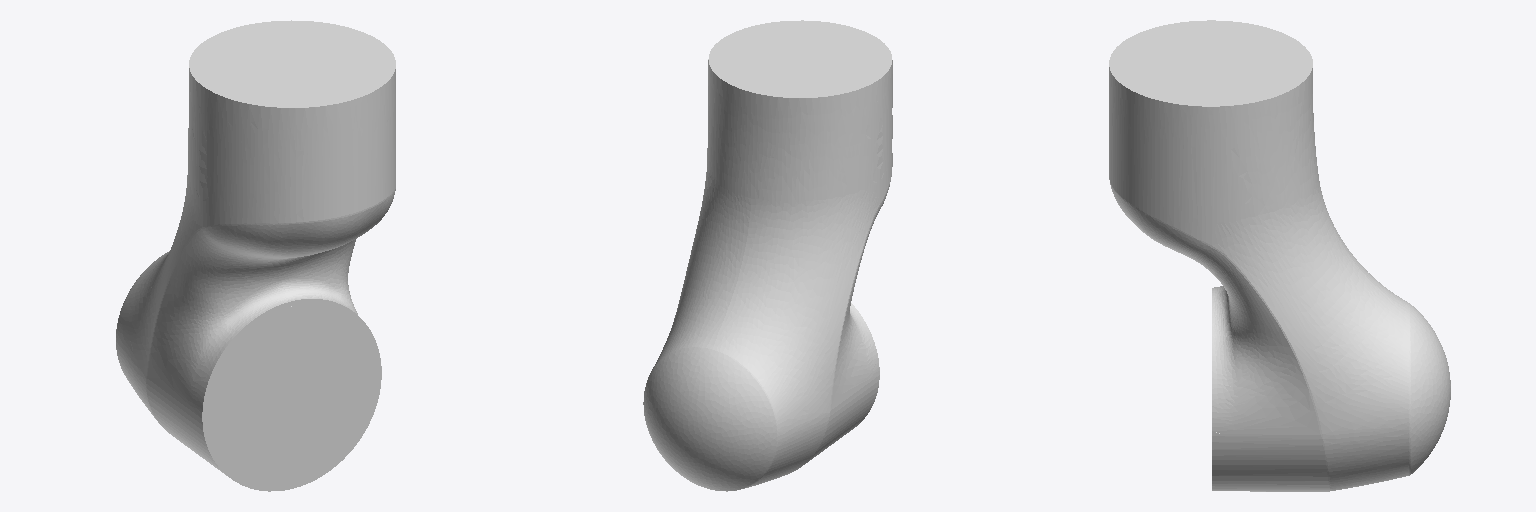
The robot description file, URDF, robot "panda":
<?xml version="1.0" ?>
<!-- =================================================================================== -->
<!-- |    This document was autogenerated by xacro from panda_arm_hand.urdf.xacro      | -->
<!-- |    EDITING THIS FILE BY HAND IS NOT RECOMMENDED                                 | -->
<!-- =================================================================================== -->
<robot name="panda" xmlns:xacro="http://www.ros.org/wiki/xacro">
  <material name="black">
    <color rgba="0.0 0.0 0.0 1"/>
  </material>
  <material name="white">
    <color rgba="0.9 0.9 0.9 1"/>
  </material>
  <material name="dark_gray">
    <color rgba="0.3 0.3 0.3 1"/>
  </material>
  <material name="gray">
    <color rgba="0.5 0.5 0.5 1"/>
  </material>
  <material name="light_gray">
    <color rgba="0.7 0.7 0.7 1"/>
  </material>
  <material name="pure_red">
    <color rgba="1.0 0.0 0.0 1"/>
  </material>
  <material name="red">
    <color rgba="0.5 0.1 0.2 1"/>
  </material>
  <material name="pure_green">
    <color rgba="0.0 1.0 0.0 1"/>
  </material>
  <material name="pure_blue">
    <color rgba="0.0 0.0 1.0 1"/>
  </material>
  <material name="blue">
    <color rgba="0.0 0.2 0.3 1"/>
  </material>

  <link name="panda_link0">
    <inertial> <!-- these inertia are calculated based on the visual meshes using Meshlab, and using a density of 1kg/m^3 (http://gazebosim.org/tutorials?tut=inertia) -->
      <mass value="1"/> <!-- volume = 0.002442 -->
      <origin xyz="-0.025566 -0.000029 0.057332"/>
      <!--inertia ixx="0.000007" ixy="0.0" ixz="-0.000001" iyy="0.000009" iyz="0.0" izz="0.000009"/-->
      <inertia ixx="0.00286650" ixy="0.0" ixz="-0.0004095" iyy="0.00368550" iyz="0.0" izz="0.00368550"/> <!-- divided by the volume, just need to be multiplied by the mass -->
    </inertial>
    <visual>
      <material name="white"/>
      <geometry>
        <mesh filename="meshes/visual/link0.stl"/>
      </geometry>
    </visual>
    <collision>
      <geometry>
        <mesh filename="meshes/collision/link0.stl"/>
      </geometry>
    </collision>
  </link>
  <link name="panda_link1">
    <inertial> <!-- these inertia are calculated based on the visual meshes using Meshlab, and using a density of 1kg/m^3 (http://gazebosim.org/tutorials?tut=inertia) -->
      <mass value="1"/> <!-- volume = 0.002293 -->
      <origin xyz="-0.000000 -0.032496 -0.067582"/>
      <!--inertia ixx="0.000015" ixy="0.0" ixz="0.0" iyy="0.000013" iyz="0.000004" izz="0.000005"/-->
      <inertia ixx="0.00654165" ixy="0.0" ixz="0.0" iyy="0.00566943" iyz="0.00174444" izz="0.00218055"/> <!-- divided by the volume, just need to be multiplied by the mass -->
    </inertial>
    <visual>
      <material name="white"/>
      <geometry>
        <mesh filename="meshes/visual/link1.stl"/>
      </geometry>
    </visual>
    <collision>
      <geometry>
        <mesh filename="meshes/collision/link1.stl"/>
      </geometry>
    </collision>
  </link>
  <joint name="panda_joint1" type="revolute">
    <safety_controller k_position="100.0" k_velocity="40.0" soft_lower_limit="-2.8973" soft_upper_limit="2.8973"/>
    <origin rpy="0 0 0" xyz="0 0 0.333"/>
    <parent link="panda_link0"/>
    <child link="panda_link1"/>
    <axis xyz="0 0 1"/>
    <limit effort="87" lower="-2.9671" upper="2.9671" velocity="2.1750"/>
  </joint>
  <link name="panda_link2">
    <inertial> <!-- these inertia are calculated based on the visual meshes using Meshlab, and using a density of 1kg/m^3 (http://gazebosim.org/tutorials?tut=inertia) -->
      <mass value="1"/> <!-- volume = 0.002312 -->
      <origin xyz="0.000000 -0.068610 0.032229"/>
      <!--inertia ixx="0.000015" ixy="0.0" ixz="0.0" iyy="0.000005" iyz="0.000004" izz="0.000014"/-->
      <inertia ixx="0.00648789" ixy="0.0" ixz="0.0" iyy="0.00216263" iyz="0.0017301" izz="0.00605536"/> <!-- divided by the volume, just need to be multiplied by the mass -->
    </inertial>
    <visual>
      <material name="white"/>
      <geometry>
        <mesh filename="meshes/visual/link2.stl"/>
      </geometry>
    </visual>
    <collision>
      <geometry>
        <mesh filename="meshes/collision/link2.stl"/>
      </geometry>
    </collision>
  </link>
  <joint name="panda_joint2" type="revolute">
    <safety_controller k_position="100.0" k_velocity="40.0" soft_lower_limit="-1.7628" soft_upper_limit="1.7628"/>
    <origin rpy="-1.57079632679 0 0" xyz="0 0 0"/>
    <parent link="panda_link1"/>
    <child link="panda_link2"/>
    <axis xyz="0 0 1"/>
    <limit effort="87" lower="-1.8326" upper="1.8326" velocity="2.1750"/>
  </joint>
  <link name="panda_link3">
    <inertial> <!-- these inertia are calculated based on the visual meshes using Meshlab, and using a density of 1kg/m^3 (http://gazebosim.org/tutorials?tut=inertia) -->
      <mass value="1"/> <!-- volume = 0.002021 -->
      <origin xyz="0.046989 0.031637 -0.031704"/>
      <!--inertia ixx="0.000007" ixy="-0.000002" ixz="-0.000003" iyy="0.000008" iyz="-0.000002" izz="0.000007"/-->
      <inertia ixx="0.00346363" ixy="-0.0009896" ixz="-0.00148441" iyy="0.00395844" iyz="-0.0009896" izz="0.00346363"/> <!-- divided by the volume, just need to be multiplied by the mass -->
    </inertial>
    <visual>
      <!-- <material name="light_gray"/> -->
      <material name="white"/>
      <geometry>
        <mesh filename="meshes/visual/link3.stl"/>
      </geometry>
    </visual>
    <collision>
      <geometry>
        <mesh filename="meshes/collision/link3.stl"/>
      </geometry>
    </collision>
  </link>
  <joint name="panda_joint3" type="revolute">
    <safety_controller k_position="100.0" k_velocity="40.0" soft_lower_limit="-2.8973" soft_upper_limit="2.8973"/>
    <origin rpy="1.57079632679 0 0" xyz="0 -0.316 0"/>
    <parent link="panda_link2"/>
    <child link="panda_link3"/>
    <axis xyz="0 0 1"/>
    <limit effort="87" lower="-2.9671" upper="2.9671" velocity="2.1750"/>
  </joint>
  <link name="panda_link4">
    <inertial> <!-- these inertia are calculated based on the visual meshes using Meshlab, and using a density of 1kg/m^3 (http://gazebosim.org/tutorials?tut=inertia) -->
      <mass value="1"/> <!-- volume = 0.002004 -->
      <origin xyz="-0.036051 0.033707 0.031902"/>
      <!--inertia ixx="0.000007" ixy="0.000003" ixz="-0.000002" iyy="0.000007" iyz="0.000002" izz="0.000009"/-->
      <inertia ixx="0.00349301" ixy="0.00149701" ixz="-0.00099800" iyy="0.00349301" iyz="0.00099800" izz="0.00449102"/> <!-- divided by the volume, just need to be multiplied by the mass -->
    </inertial>
    <visual>
      <material name="white"/>
      <geometry>
        <mesh filename="meshes/visual/link4.stl"/>
      </geometry>
    </visual>
    <collision>
      <geometry>
        <mesh filename="meshes/collision/link4.stl"/>
      </geometry>
    </collision>
  </link>
  <joint name="panda_joint4" type="revolute">
    <safety_controller k_position="100.0" k_velocity="40.0" soft_lower_limit="-3.0718" soft_upper_limit="-0.0698"/>
    <origin rpy="1.57079632679 0 0" xyz="0.0825 0 0"/>
    <parent link="panda_link3"/>
    <child link="panda_link4"/>
    <axis xyz="0 0 1"/>
    <limit effort="87" lower="-3.1416" upper="0.0" velocity="2.1750"/>
  </joint>
  <link name="panda_link5">
    <inertial> <!-- these inertia are calculated based on the visual meshes using Meshlab, and using a density of 1kg/m^3 (http://gazebosim.org/tutorials?tut=inertia) -->
      <mass value="1"/> <!-- volume = 0.002275 -->
      <origin xyz="-0.000006 0.061043 -0.104176"/>
      <!--inertia ixx="0.000025" ixy="0.000000" ixz="-0.000000" iyy="0.000024" iyz="-0.000006" izz="0.000004"/-->
      <inertia ixx="0.01098901" ixy="0.000000" ixz="0.000000" iyy="0.01054945" iyz="-0.00263736" izz="0.00175824"/> <!-- divided by the volume, just need to be multiplied by the mass -->
    </inertial>
    <visual>
      <material name="white"/>
      <geometry>
        <mesh filename="meshes/visual/link5.stl"/>
      </geometry>
    </visual>
    <collision>
      <geometry>
        <mesh filename="meshes/collision/link5.stl"/>
      </geometry>
    </collision>
  </link>
  <joint name="panda_joint5" type="revolute">
    <safety_controller k_position="100.0" k_velocity="40.0" soft_lower_limit="-2.8973" soft_upper_limit="2.8973"/>
    <origin rpy="-1.57079632679 0 0" xyz="-0.0825 0.384 0"/>
    <parent link="panda_link4"/>
    <child link="panda_link5"/>
    <axis xyz="0 0 1"/>
    <limit effort="12" lower="-2.9671" upper="2.9671" velocity="2.6100"/>
  </joint>
  <link name="panda_link6">
    <inertial> <!-- these inertia are calculated based on the visual meshes using Meshlab, and using a density of 1kg/m^3 (http://gazebosim.org/tutorials?tut=inertia) -->
      <mass value="1"/> <!-- volume = 0.001435 --> <!-- NOTE: BECAUSE MESHLAB OUTPUTED NAN FOR THE VISUAL MESH, I USED THE COLLISION MESH -->
      <origin xyz="0.051002 0.006933 0.006169"/>
      <!--inertia ixx="0.000002" ixy="0.000000" ixz="0.000000" iyy="0.000004" iyz="0.000000" izz="0.000004"/-->
      <inertia ixx="0.00139373" ixy="0.000000" ixz="0.000000" iyy="0.00278745" iyz="0.000000" izz="0.00278745"/> <!-- divided by the volume, just need to be multiplied by the mass -->
    </inertial>
    <visual>
      <material name="white"/>
      <geometry>
        <mesh filename="meshes/visual/link6.stl"/>
      </geometry>
    </visual>
    <collision>
      <geometry>
        <mesh filename="meshes/collision/link6.stl"/>
      </geometry>
    </collision>
  </link>
  <joint name="panda_joint6" type="revolute">
    <safety_controller k_position="100.0" k_velocity="40.0" soft_lower_limit="-0.0175" soft_upper_limit="3.7525"/>
    <origin rpy="1.57079632679 0 0" xyz="0 0 0"/>
    <parent link="panda_link5"/>
    <child link="panda_link6"/>
    <axis xyz="0 0 1"/>
    <limit effort="12" lower="-0.0873" upper="3.8223" velocity="2.6100"/>
  </joint>
  <link name="panda_link7">
    <inertial> <!-- these inertia are calculated based on the visual meshes using Meshlab, and using a density of 1kg/m^3 (http://gazebosim.org/tutorials?tut=inertia) -->
      <mass value="1"/> <!-- volume = 0.000454 -->
      <origin xyz="0.010969 0.010797 0.065041"/>
      <!--inertia ixx="0.000001" ixy="0.000000" ixz="0.000000" iyy="0.000001" iyz="0.000000" izz="0.000001"/-->
      <inertia ixx="0.00220264" ixy="0.000000" ixz="0.000000" iyy="0.00220264" iyz="0.000000" izz="0.00220264"/> <!-- divided by the volume, just need to be multiplied by the mass -->
    </inertial>
    <visual>
      <material name="white"/>
      <geometry>
        <mesh filename="meshes/visual/link7.stl"/>
      </geometry>
    </visual>
    <collision>
      <geometry>
        <mesh filename="meshes/collision/link7.stl"/>
      </geometry>
    </collision>
  </link>
  <joint name="panda_joint7" type="revolute">
    <safety_controller k_position="100.0" k_velocity="40.0" soft_lower_limit="-2.8973" soft_upper_limit="2.8973"/>
    <origin rpy="1.57079632679 0 0" xyz="0.088 0 0"/>
    <parent link="panda_link6"/>
    <child link="panda_link7"/>
    <axis xyz="0 0 1"/>
    <limit effort="12" lower="-2.9671" upper="2.9671" velocity="2.6100"/>
  </joint>
  <link name="panda_link8">
    <inertial>
      <origin rpy="0 0 0" xyz="0 0 0"/>
      <mass value="0"/>
      <inertia ixx="0.0" ixy="0.0" ixz="0.0" iyy="0.0" iyz="0.0" izz="0.0"/>
    </inertial>
  </link> <!-- in pybullet, the inertia need to be specified even for dummy links, otherwise it will put an identity inertia and a mass of 1 by default -->
  <joint name="panda_joint8" type="fixed">
    <origin rpy="0 0 0" xyz="0 0 0.107"/>
    <parent link="panda_link7"/>
    <child link="panda_link8"/>
    <axis xyz="0 0 0"/>
  </joint>
  <joint name="panda_hand_joint" type="fixed">
    <parent link="panda_link8"/>
    <child link="panda_hand"/>
    <origin rpy="0 0 -0.785398163397" xyz="0 0 0"/>
  </joint>
  <link name="panda_hand">
    <inertial> <!-- these inertia are calculated based on the visual meshes using Meshlab, and using a density of 1kg/m^3 (http://gazebosim.org/tutorials?tut=inertia) -->
      <mass value="1"/> <!-- volume = 0.000488 -->
      <origin xyz="-0.000007 0.001524 0.027591"/>
      <!--inertia ixx="0.000002" ixy="0.000000" ixz="0.000000" iyy="0.0000003" iyz="0.000000" izz="0.000002"/-->
      <inertia ixx="0.00409836" ixy="0.000000" ixz="0.000000" iyy="0.00061475" iyz="0.000000" izz="0.00409836"/> <!-- divided by the volume, just need to be multiplied by the mass -->
    </inertial>
    <visual>
      <material name="white"/>
      <geometry>
        <mesh filename="meshes/visual/hand.stl"/>
      </geometry>
    </visual>
    <collision>
      <geometry>
        <mesh filename="meshes/collision/hand.stl"/>
      </geometry>
    </collision>
  </link>
  <link name="panda_leftfinger">
    <inertial> <!-- these inertia are calculated based on the visual meshes using Meshlab, and using a density of 1kg/m^3 (http://gazebosim.org/tutorials?tut=inertia) -->
      <mass value="1"/> <!-- volume = 0.000011 -->
      <origin xyz="0.000002 0.014564 0.022794"/>
      <!--inertia ixx="0.00000000338" ixy="0.000000" ixz="0.000000" iyy="0.000000000332" iyz="0.00000000060" izz="0.00000000078"/-->
      <!--inertia ixx="0.00030727" ixy="0.000000" ixz="0.000000" iyy="0.00003018" iyz="0.00005455" izz="0.00007091"/--> <!-- divided by the volume, just need to be multiplied by the mass -->
    </inertial>
    <visual>
      <material name="light_gray"/>
      <geometry>
        <mesh filename="meshes/visual/finger.stl"/>
      </geometry>
    </visual>
    <collision>
      <geometry>
        <mesh filename="meshes/collision/finger.stl"/>
      </geometry>
    </collision>
  </link>
  <link name="panda_rightfinger">
    <inertial> <!-- these inertia are calculated based on the visual meshes using Meshlab, and using a density of 1kg/m^3 (http://gazebosim.org/tutorials?tut=inertia) -->
      <mass value="1"/> <!-- volume = 0.000011 -->
      <origin xyz="0.000002 0.014564 0.022794"/>
      <!--inertia ixx="0.00000000338" ixy="0.000000" ixz="0.000000" iyy="0.000000000332" iyz="0.00000000060" izz="0.00000000078"/-->
      <!--inertia ixx="0.00030727" ixy="0.000000" ixz="0.000000" iyy="0.00003018" iyz="0.00005455" izz="0.00007091"/--> <!-- divided by the volume, just need to be multiplied by the mass -->
    </inertial>
    <visual>
      <material name="light_gray"/>
      <origin rpy="0 0 3.14159265359" xyz="0 0 0"/>
      <geometry>
        <mesh filename="meshes/visual/finger.stl"/>
      </geometry>
    </visual>
    <collision>
      <origin rpy="0 0 3.14159265359" xyz="0 0 0"/>
      <geometry>
        <mesh filename="meshes/collision/finger.stl"/>
      </geometry>
    </collision>
  </link>
  <joint name="panda_finger_joint1" type="prismatic">
    <parent link="panda_hand"/>
    <child link="panda_leftfinger"/>
    <origin rpy="0 0 0" xyz="0 0 0.0584"/>
    <axis xyz="0 1 0"/>
    <limit effort="20" lower="0.0" upper="0.04" velocity="0.2"/>
  </joint>
  <joint name="panda_finger_joint2" type="prismatic">
    <parent link="panda_hand"/>
    <child link="panda_rightfinger"/>
    <origin rpy="0 0 0" xyz="0 0 0.0584"/>
    <axis xyz="0 -1 0"/>
    <limit effort="20" lower="0.0" upper="0.04" velocity="0.2"/>
    <mimic joint="panda_finger_joint1"/>
  </joint>
</robot>

--- Facts derived from the render (not from the file) ---
3 views of the same robot in one strip: view 1: azimuth 30°, elevation 25°; view 2: azimuth 150°, elevation 25°; view 3: azimuth 270°, elevation 25° (orthographic).
Robot: panda — 12 links, 11 joints (7 revolute, 2 prismatic, 2 fixed); root link panda_link0; default pose: every joint at zero.
Visible links, largest first — view 1: panda_link2; view 2: panda_link2; view 3: panda_link2.
Link boxes in pixels (<box>): panda_link2: <box>116,20,395,491</box>; panda_link2: <box>643,20,892,491</box>; panda_link2: <box>1109,20,1450,491</box>.
Bounding box of the posed robot: 0.11 × 0.1844 × 0.249 m (x, y, z).
Meshes: 10 distinct files referenced, 1 mesh visuals loaded (1 binary STL); not drawn: 10 (reference not matched to a file when rendering).